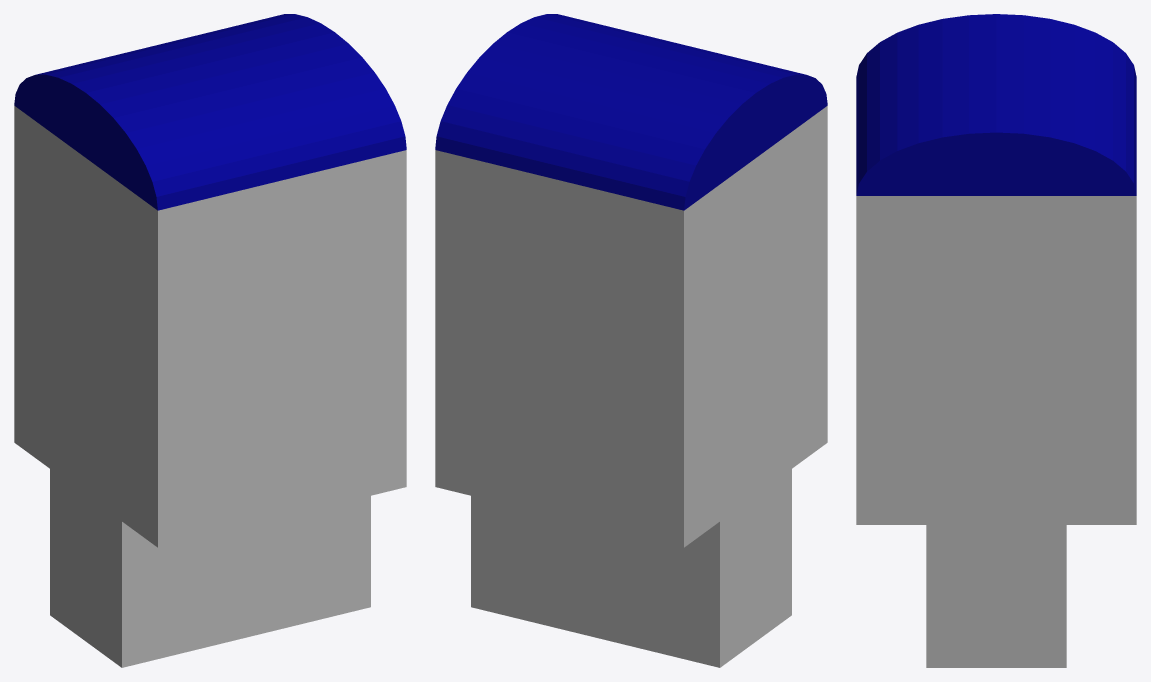
Rendered from body_l_distal_pinvround.obj.
3 views of the same model, side by side, from view 1: azimuth 30°, elevation 25°; view 2: azimuth 150°, elevation 25°; view 3: azimuth 270°, elevation 25° (orthographic). The views are drawn at different scales.
Visible parts, largest first — view 1: body_l_distal_pinvround_Cube.004; view 2: body_l_distal_pinvround_Cube.004; view 3: body_l_distal_pinvround_Cube.004.
Part boxes in pixels (x1,y1,x2,y2): body_l_distal_pinvround_Cube.004: (14, 14, 406, 667); body_l_distal_pinvround_Cube.004: (435, 14, 827, 667); body_l_distal_pinvround_Cube.004: (856, 14, 1136, 667).
Size of the model in its own units: 0.02 by 0.0421 by 0.02.
